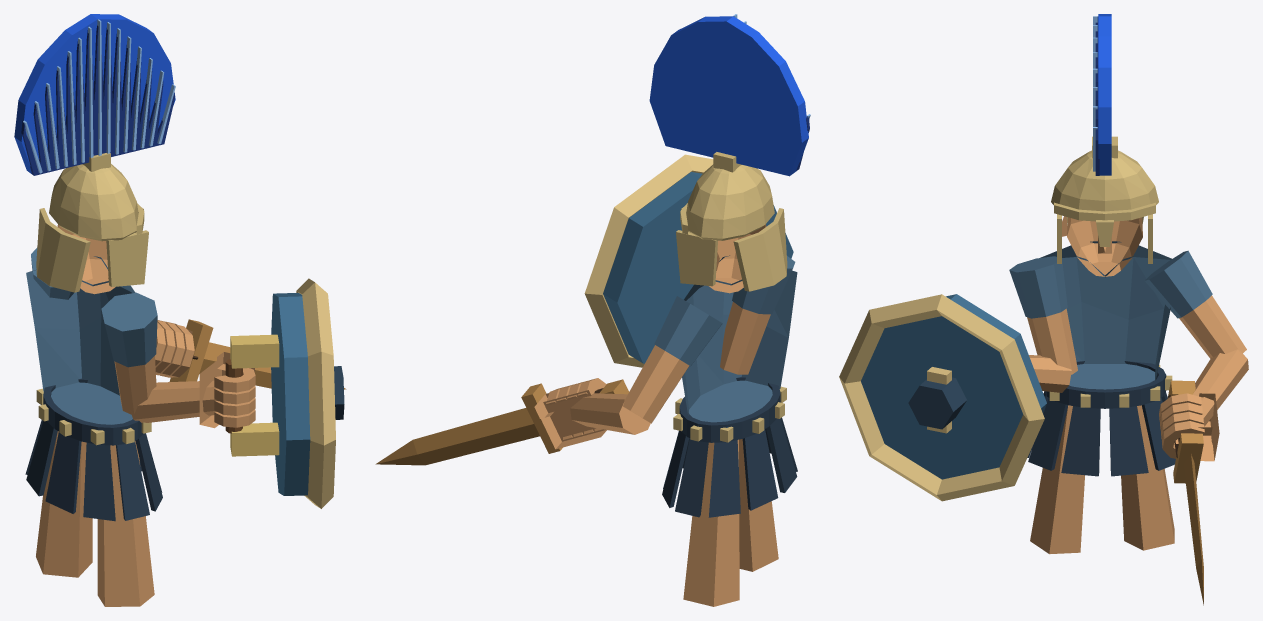
File: romanSoldier_gladius_blue.glb
The picture shows the model from 3 angles, left to right: view 1: azimuth 30°, elevation 25°; view 2: azimuth 150°, elevation 25°; view 3: azimuth 270°, elevation 25°; orthographic projection. The views are drawn at different scales.
Parts seen in each view (by area): view 1: Helmet_Galea.002, n3, Skirt_Ten_Separated_Lames.002, soldier-crest, soldier-crest-feathers, n33, soldier-crest-stems, n35, n24, n27, Short_blue_sleeve_L, Closed_gripping_hand_L (+11 smaller); view 2: soldier-crest, Helmet_Galea.002, n33, n3, Skirt_Ten_Separated_Lames.002, n27, n35, n53, n24, Closed_gripping_hand_R, n21, Short_blue_sleeve_R (+6 smaller); view 3: n33, n35, n3, Skirt_Ten_Separated_Lames.002, Helmet_Galea.002, n24, n27, n7, Closed_gripping_hand_R, Short_blue_sleeve_L, Short_blue_sleeve_R, soldier-crest (+10 smaller).
Part boxes in pixels (bbox=[...]): Helmet_Galea.002: bbox=[36, 153, 151, 445]; n3: bbox=[26, 256, 135, 430]; Skirt_Ten_Separated_Lames.002: bbox=[25, 420, 162, 521]; soldier-crest: bbox=[14, 14, 175, 173]; soldier-crest-feathers: bbox=[21, 25, 174, 175]; n33: bbox=[271, 292, 310, 495]; soldier-crest-stems: bbox=[23, 19, 175, 173]; n35: bbox=[296, 278, 335, 508]; n24: bbox=[97, 441, 154, 606]; n27: bbox=[36, 431, 92, 577]; Short_blue_sleeve_L: bbox=[101, 292, 157, 367]; Closed_gripping_hand_L: bbox=[199, 352, 255, 428]; soldier-crest: bbox=[649, 16, 808, 176]; Helmet_Galea.002: bbox=[673, 152, 787, 442]; n33: bbox=[603, 172, 793, 363]; n3: bbox=[682, 255, 797, 427]; Skirt_Ten_Separated_Lames.002: bbox=[662, 417, 797, 517]; n27: bbox=[683, 439, 739, 606]; n35: bbox=[584, 154, 713, 367]; n53: bbox=[375, 408, 539, 465]; n24: bbox=[739, 439, 778, 571]; Closed_gripping_hand_R: bbox=[534, 378, 606, 449]; n21: bbox=[623, 345, 689, 423]; Short_blue_sleeve_R: bbox=[654, 296, 722, 366]; n33: bbox=[861, 294, 1046, 479]; n35: bbox=[839, 294, 1044, 501]; n3: bbox=[1040, 241, 1171, 389]; Skirt_Ten_Separated_Lames.002: bbox=[1027, 392, 1175, 476]; Helmet_Galea.002: bbox=[1049, 136, 1172, 407]; n24: bbox=[1030, 405, 1084, 554]; n27: bbox=[1121, 405, 1174, 550]; n7: bbox=[1062, 216, 1142, 276]; Closed_gripping_hand_R: bbox=[1159, 393, 1219, 461]; Short_blue_sleeve_L: bbox=[1009, 256, 1067, 318]; Short_blue_sleeve_R: bbox=[1144, 250, 1212, 318]; soldier-crest: bbox=[1098, 14, 1111, 175].
Bounding box in the file's own units: 0.8179 × 1.16 × 0.8176.
